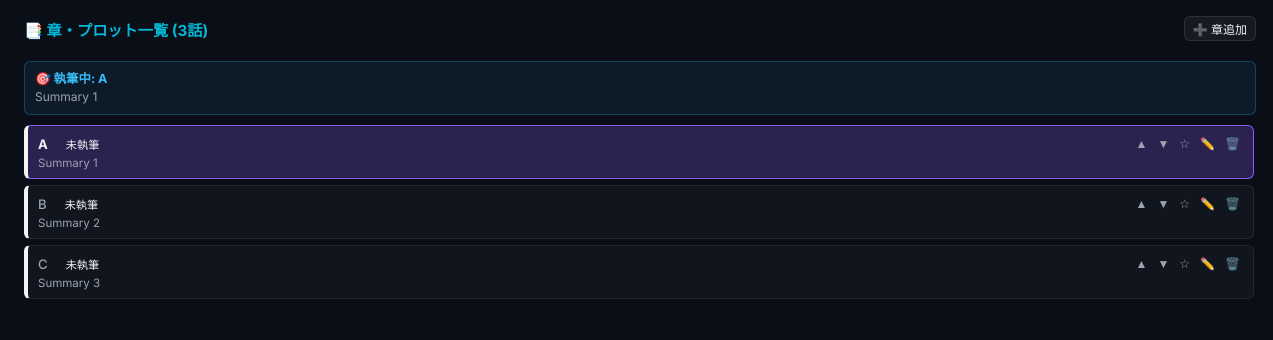
Test: D4: 保存失敗はユーザーへ伝えて巻き戻す › 章名の変更が失敗したら元のタイトルへ戻す
Step 1. Click the button with test id "btn-edit-title-2" → [1208, 204], box [1197,196,1218,212]
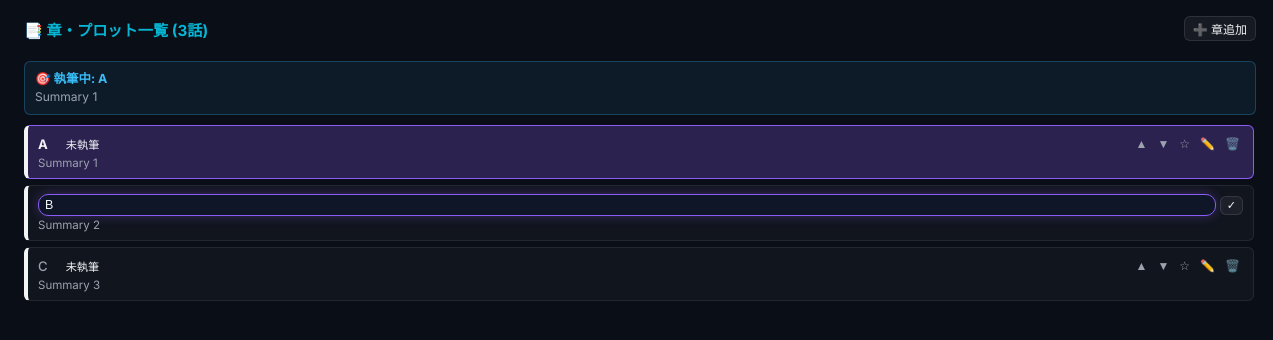
Step 2. Replace the text in the field with test id "input-edit-chapter-title" with "書き換えたタイトル" → [627, 205], box [38,194,1216,216]
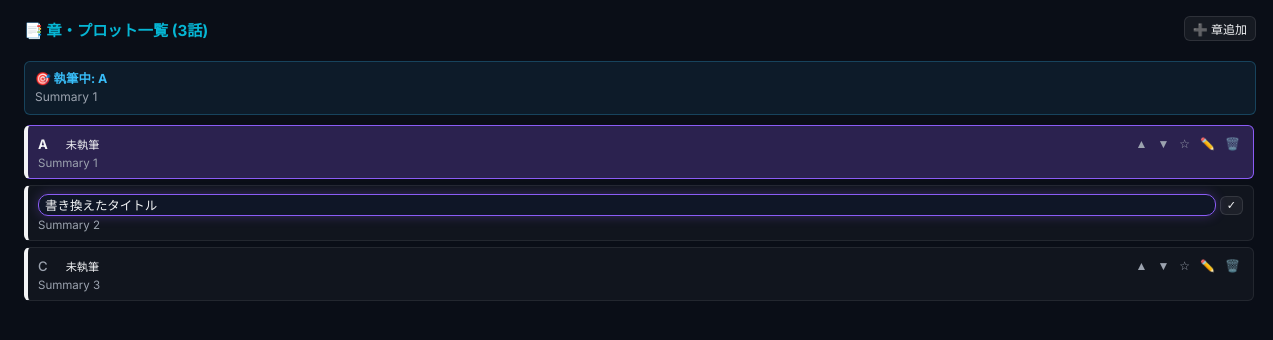
Step 3. Press Tab
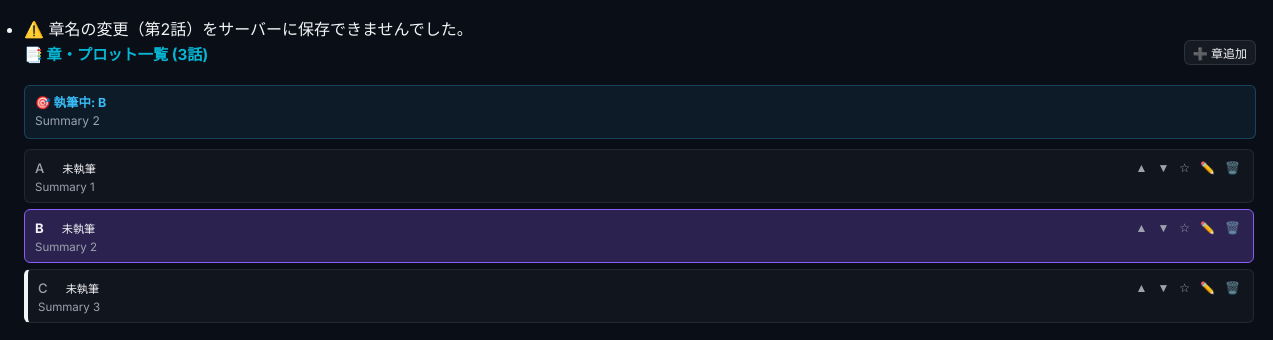
Expected: the text "書き換えたタイトル" is not shown
Expected: the text "B" is shown, [35,220,44,236]
Expected: the text "サーバーに保存できませんでした" is shown, [24,19,473,39]
